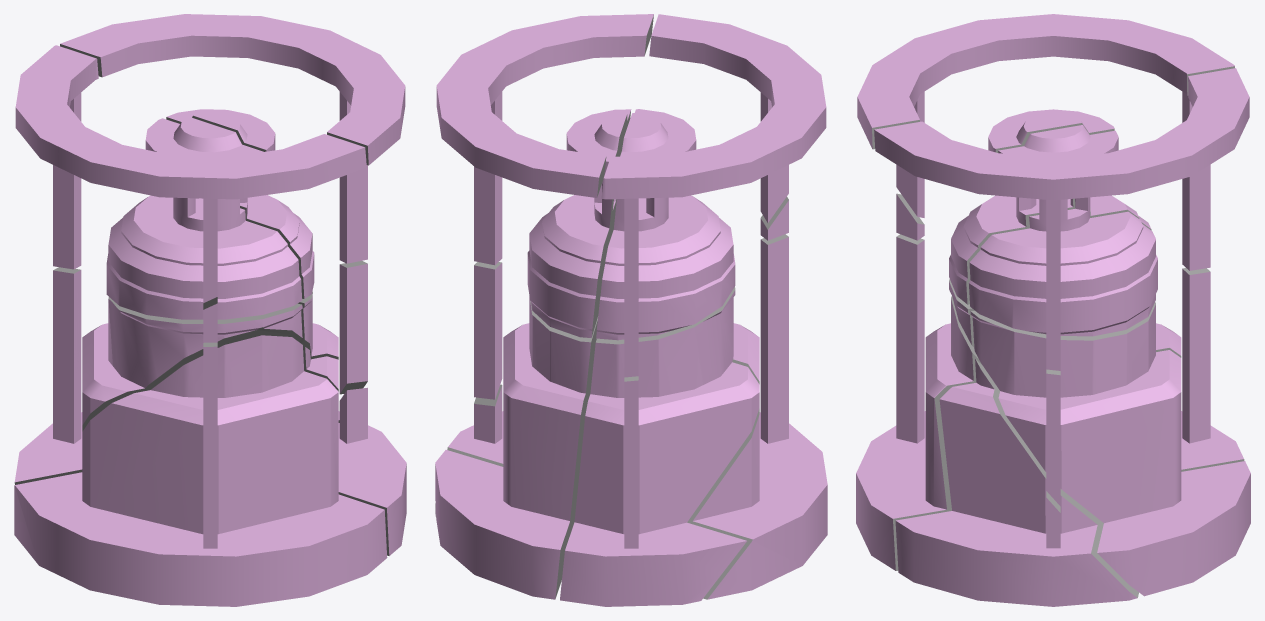
Rendered from PistãoCrak.fbx.
3 views of the same model, side by side, from view 1: azimuth 30°, elevation 25°; view 2: azimuth 150°, elevation 25°; view 3: azimuth 270°, elevation 25° (orthographic).
Visible parts, largest first — view 1: polySurface66, polySurface68, polySurface57, polySurface74, polySurface73, polySurface61, polySurface70, polySurface65, polySurface62, polySurface64, polySurface67, polySurface63 (+7 smaller); view 2: polySurface61, polySurface67, polySurface74, polySurface73, polySurface57, polySurface56, polySurface62, polySurface66, polySurface69, polySurface63, polySurface68, polySurface64 (+7 smaller); view 3: polySurface70, polySurface56, polySurface62, polySurface73, polySurface69, polySurface74, polySurface66, polySurface57, polySurface63, polySurface65, polySurface68, polySurface60 (+7 smaller).
Boxes of the visible parts, x1=… form: polySurface66: x1=14, y1=335, x2=387, y2=606; polySurface68: x1=82, y1=371, x2=338, y2=534; polySurface57: x1=106, y1=117, x2=302, y2=319; polySurface74: x1=15, y1=45, x2=366, y2=199; polySurface73: x1=60, y1=14, x2=405, y2=165; polySurface61: x1=14, y1=297, x2=302, y2=484; polySurface70: x1=303, y1=347, x2=406, y2=555; polySurface65: x1=53, y1=267, x2=81, y2=443; polySurface62: x1=166, y1=109, x2=314, y2=298; polySurface64: x1=339, y1=261, x2=367, y2=394; polySurface67: x1=82, y1=323, x2=154, y2=431; polySurface63: x1=203, y1=342, x2=217, y2=548; polySurface61: x1=560, y1=287, x2=746, y2=606; polySurface67: x1=574, y1=362, x2=759, y2=534; polySurface74: x1=601, y1=14, x2=826, y2=199; polySurface73: x1=436, y1=14, x2=653, y2=197; polySurface57: x1=596, y1=109, x2=735, y2=340; polySurface56: x1=435, y1=296, x2=598, y2=599; polySurface62: x1=527, y1=109, x2=631, y2=337; polySurface66: x1=691, y1=358, x2=827, y2=599; polySurface69: x1=503, y1=323, x2=586, y2=520; polySurface63: x1=760, y1=234, x2=788, y2=443; polySurface68: x1=687, y1=323, x2=759, y2=523; polySurface64: x1=474, y1=262, x2=502, y2=399; polySurface70: x1=895, y1=358, x2=1138, y2=606; polySurface56: x1=970, y1=302, x2=1250, y2=596; polySurface62: x1=969, y1=125, x2=1157, y2=336; polySurface73: x1=874, y1=68, x2=1249, y2=200; polySurface69: x1=998, y1=350, x2=1181, y2=523; polySurface74: x1=857, y1=14, x2=1234, y2=149; polySurface66: x1=856, y1=296, x2=981, y2=570; polySurface57: x1=949, y1=109, x2=1151, y2=304; polySurface63: x1=896, y1=234, x2=924, y2=443; polySurface65: x1=1182, y1=268, x2=1210, y2=443; polySurface68: x1=925, y1=323, x2=973, y2=509; polySurface60: x1=1182, y1=91, x2=1210, y2=270.
Size of the model in its own units: 14.21 by 16.95 by 14.21.
